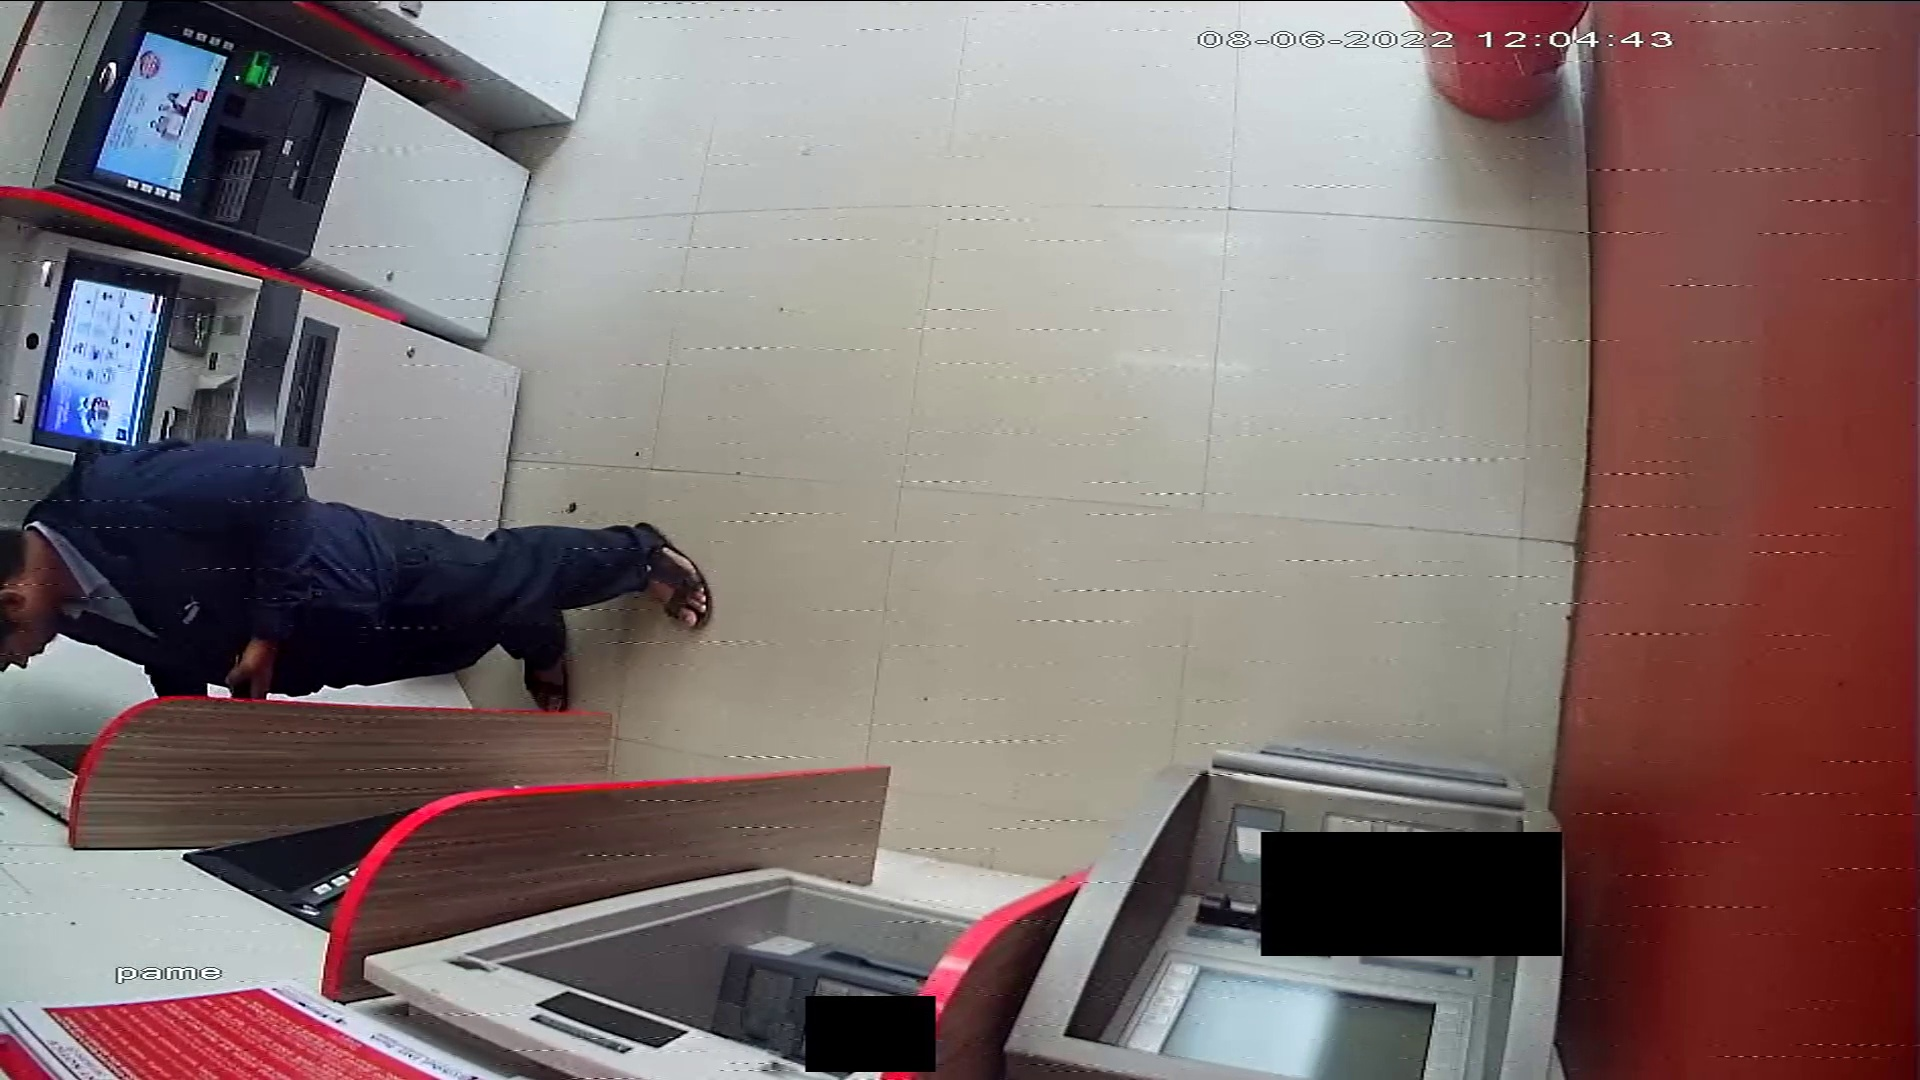person: (1, 440, 715, 709)
